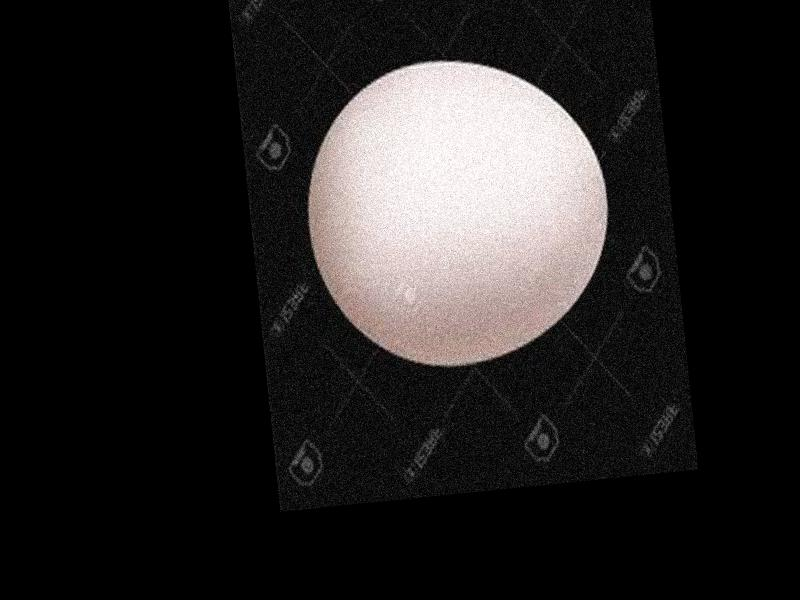Eggs: (295, 47, 619, 374)
